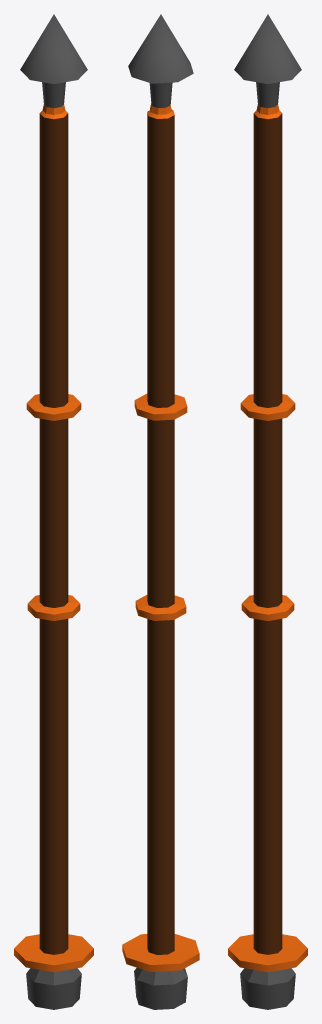
Rendered from Spear.FBX.
The picture shows the model from 3 angles, left to right: view 1: azimuth 90°, elevation 25°; view 2: azimuth 210°, elevation 25°; view 3: azimuth 270°, elevation 25°; orthographic projection.
Parts seen in each view (by area): view 1: Spear; view 2: Spear; view 3: Spear.
Boxes of the visible parts, x1=… form: Spear: x1=14, y1=14, x2=93, y2=1009; Spear: x1=122, y1=14, x2=199, y2=1009; Spear: x1=228, y1=14, x2=307, y2=1009.
Size of the model in its own units: 0.1175 by 1.6 by 0.1175.
